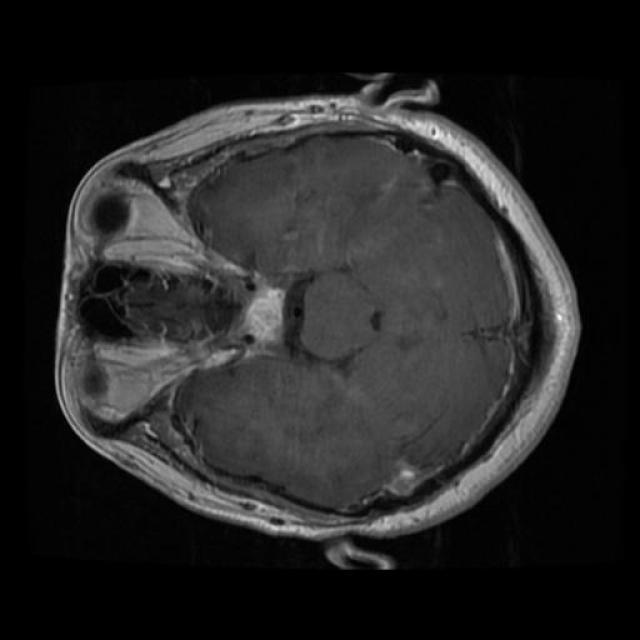Pituitary: (232, 270, 294, 357)
